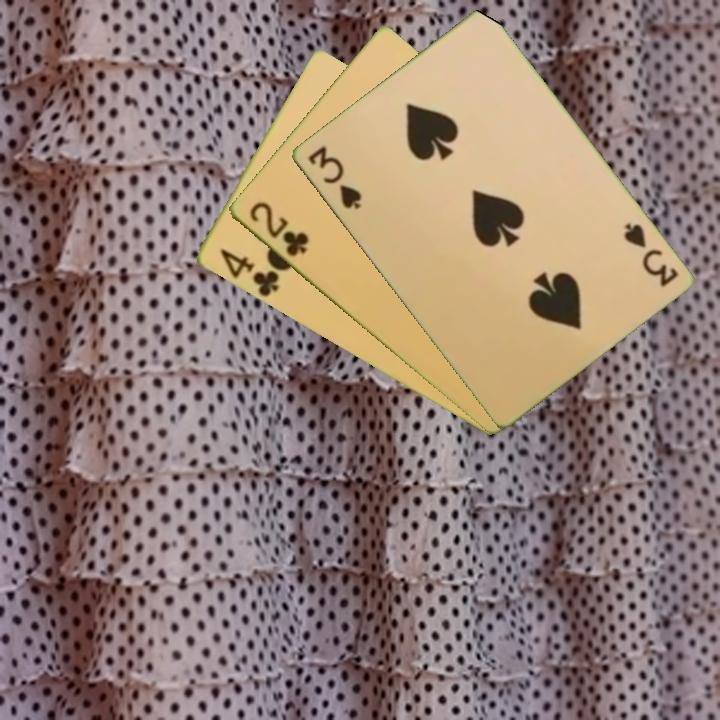2c: (245, 198, 311, 260)
3s: (619, 219, 681, 290), (304, 142, 364, 212)
4c: (215, 245, 283, 300)
